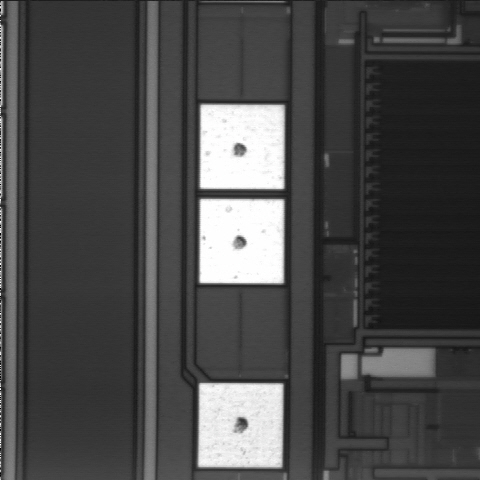pad: (199, 199, 284, 283), (198, 383, 283, 467), (200, 105, 284, 189)
